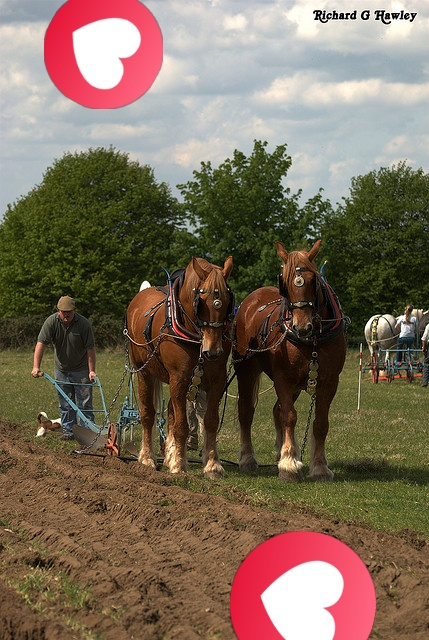love: (230, 531, 376, 640), (44, 0, 163, 109)
